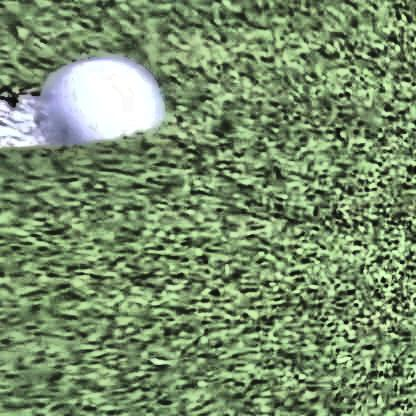golfball: (36, 70, 162, 161)
